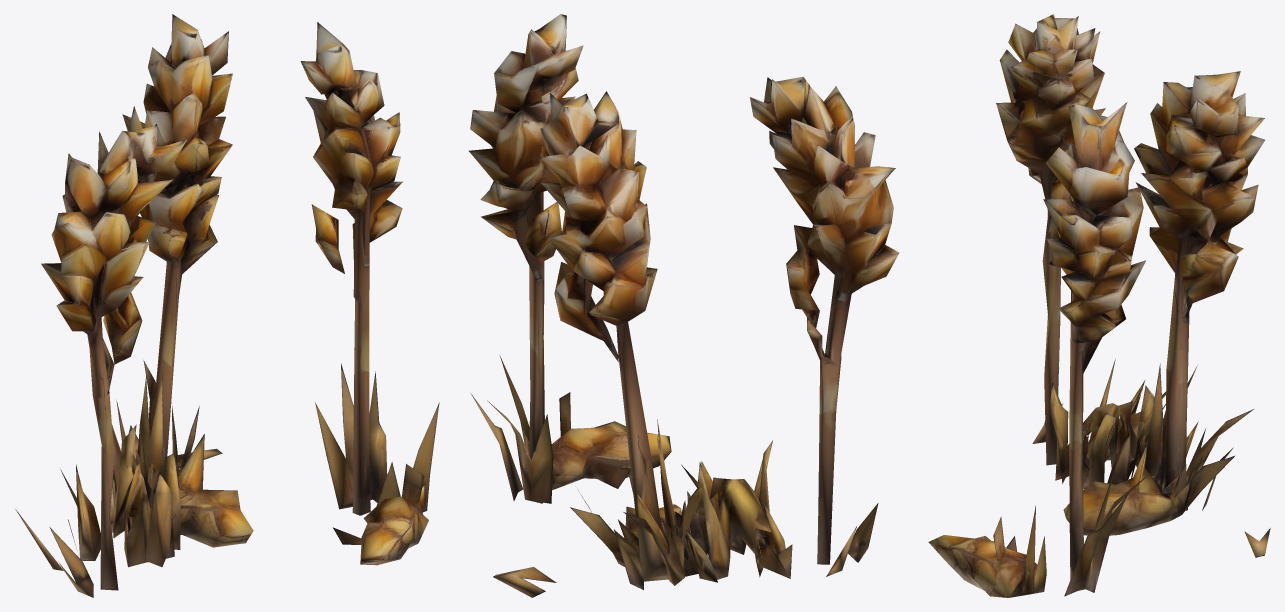
The model's file is wheat1.glb.
3 views of the same model, side by side, from view 1: azimuth 30°, elevation 25°; view 2: azimuth 150°, elevation 25°; view 3: azimuth 270°, elevation 25° (orthographic). The views are drawn at different scales.
Bounding box in the file's own units: 1.65 × 2 × 1.27.
Materials: 1 (1 with a texture image).
